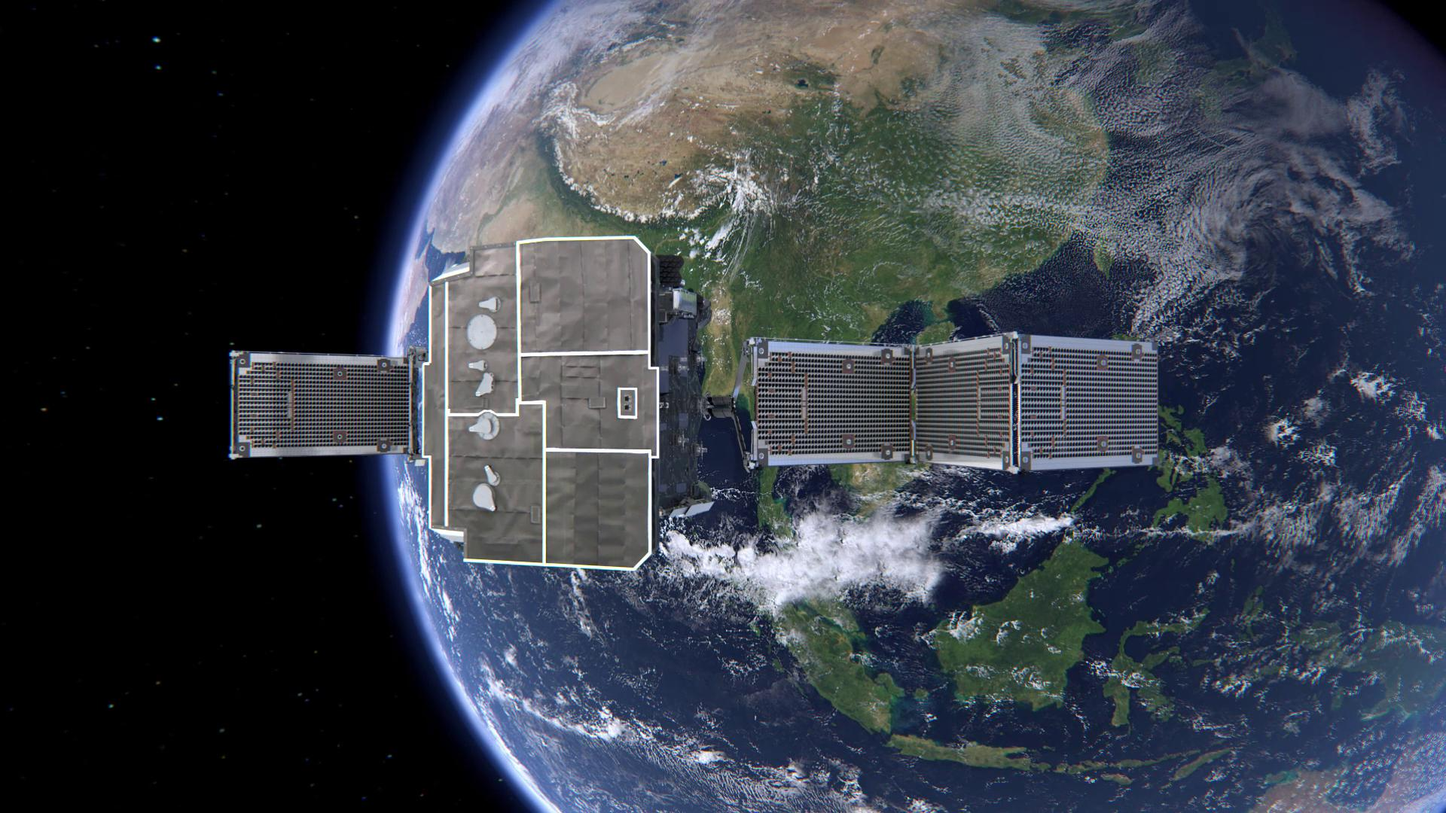body: (422, 232, 711, 578)
solar: (743, 328, 1164, 477), (227, 348, 415, 461)
